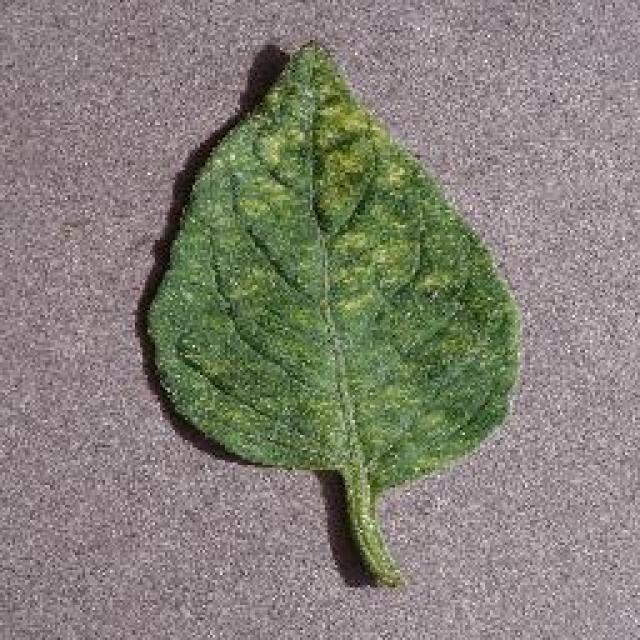Tomato___Spider_mites Two-spotted_spider_mite: (148, 42, 518, 582)
